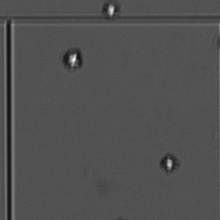Living Cell: (59, 45, 90, 76), (155, 152, 183, 175), (96, 1, 124, 21)
